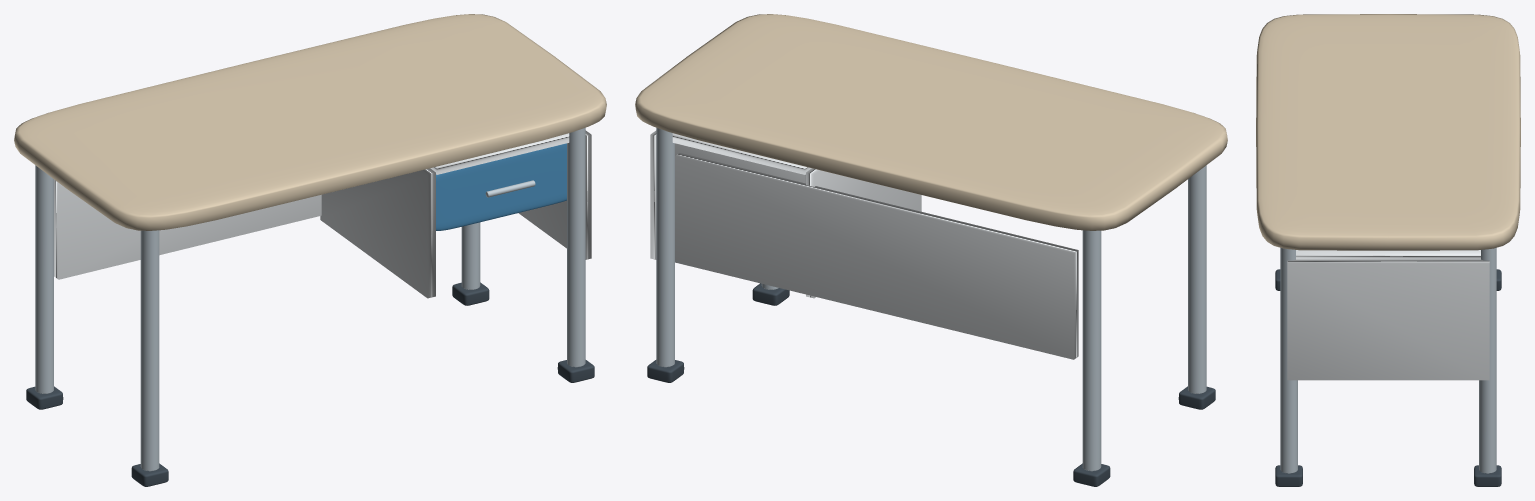
Rendered from computer_desk.glb.
3 views of the same model, side by side, from view 1: azimuth 30°, elevation 25°; view 2: azimuth 150°, elevation 25°; view 3: azimuth 270°, elevation 25° (orthographic). The views are drawn at different scales.
Parts seen in each view (by area): view 1: Worktop, Pedestal_Side_0.2, Rear_Modesty_Panel, Desk_Drawer_Front, Leg_-0.63_0.27, Leg_0.63_0.27, Leg_-0.63_-0.27, Pedestal_Side_0.66, Leg_0.63_-0.27, Drawer_Box_Top; view 2: Worktop, Rear_Modesty_Panel, Leg_-0.63_-0.27, Leg_0.63_-0.27, Leg_-0.63_0.27, Pedestal_Side_0.2, Drawer_Box_Top, Desk_Drawer_Back, Pedestal_Side_0.66; view 3: Worktop, Pedestal_Side_0.66, Leg_0.63_-0.27, Leg_0.63_0.27, Drawer_Box_Top, Foot_0.63-0.27, Foot_0.630.27.
Part boxes in pixels (box(x1,y1,x2,y2)): Worktop: box(14, 14, 606, 230); Pedestal_Side_0.2: box(320, 168, 435, 298); Rear_Modesty_Panel: box(54, 179, 321, 279); Desk_Drawer_Front: box(436, 143, 566, 230); Leg_-0.63_0.27: box(140, 230, 159, 471); Leg_0.63_0.27: box(567, 127, 585, 367); Leg_-0.63_-0.27: box(35, 165, 53, 393); Pedestal_Side_0.66: box(518, 130, 591, 259); Leg_0.63_-0.27: box(461, 222, 480, 289); Drawer_Box_Top: box(430, 133, 569, 174); Worktop: box(635, 14, 1227, 230); Rear_Modesty_Panel: box(675, 153, 1078, 359); Leg_-0.63_-0.27: box(1082, 230, 1101, 471); Leg_0.63_-0.27: box(656, 127, 674, 367); Leg_-0.63_0.27: box(1188, 165, 1206, 393); Pedestal_Side_0.2: box(806, 168, 921, 298); Drawer_Box_Top: box(672, 133, 811, 174); Desk_Drawer_Back: box(675, 143, 805, 183); Pedestal_Side_0.66: box(650, 130, 656, 259); Worktop: box(1256, 14, 1520, 250); Pedestal_Side_0.66: box(1287, 259, 1489, 380); Leg_0.63_-0.27: box(1479, 248, 1496, 473); Leg_0.63_0.27: box(1280, 248, 1297, 473); Drawer_Box_Top: box(1296, 250, 1480, 259); Foot_0.63-0.27: box(1474, 465, 1501, 486); Foot_0.630.27: box(1275, 465, 1302, 486).
Size of the model in its own units: 1.45 by 0.7825 by 0.72.
